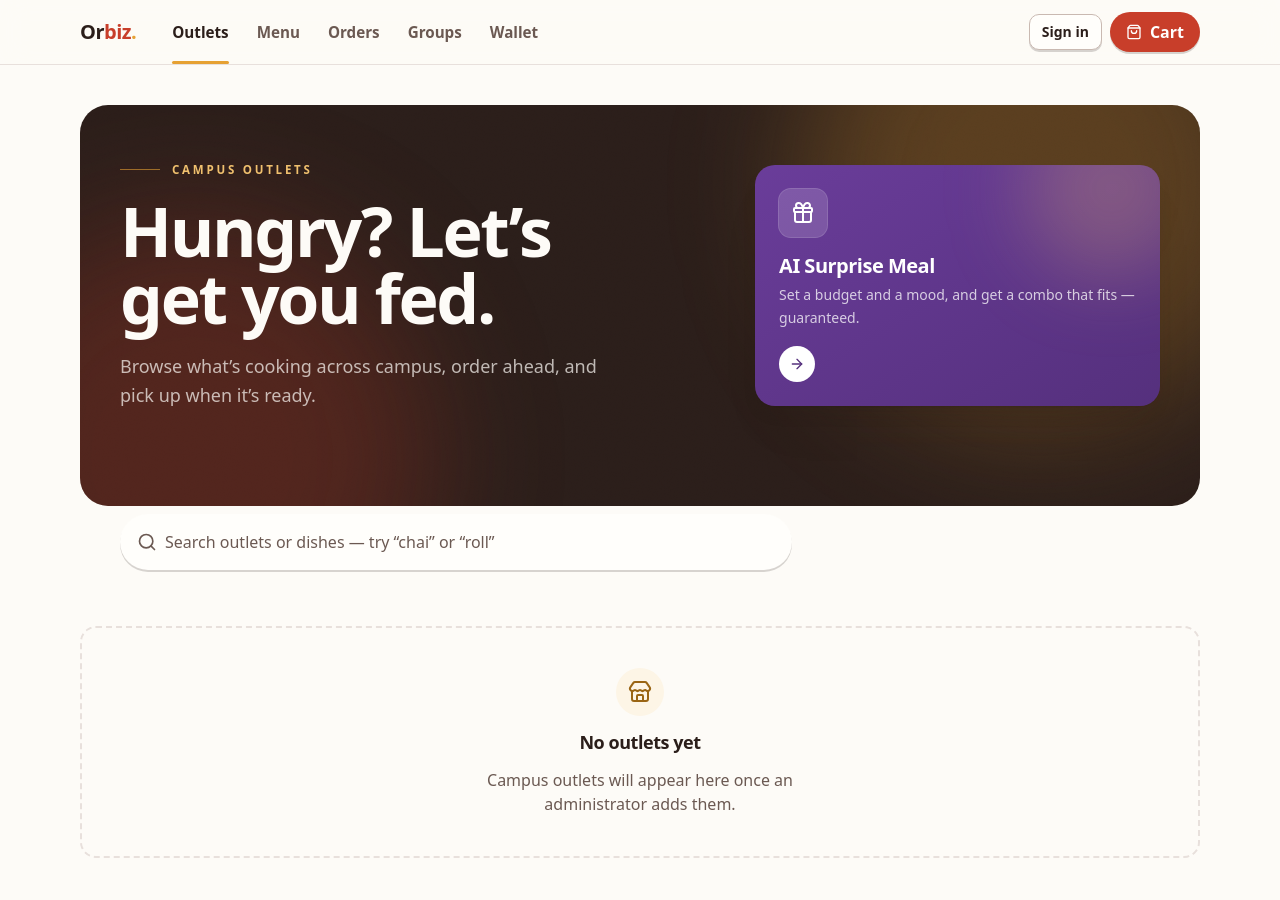
Test case: <HomePage /> › sends the search to the server (debounced) and offers to clear an empty result
This screenshot has width=1280, height=900.
Expected: the heading "No outlets yet" is shown, x1=579 y1=728 x2=701 y2=756
Step 1. Type "dosa" into the search field named "Search outlets and dishes" → (470, 542), box x1=165 y1=515 x2=775 y2=569
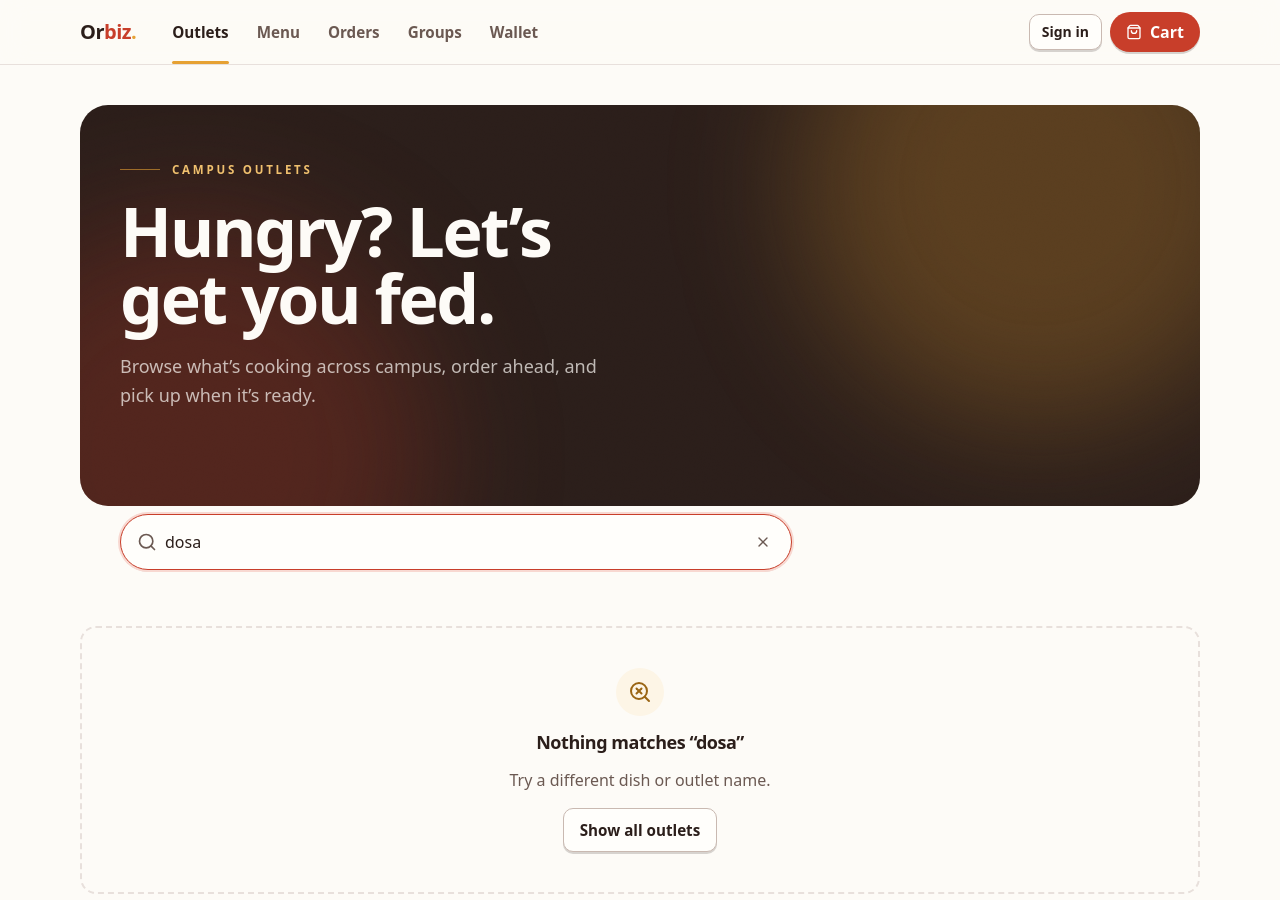
Now the heading "Nothing matches “dosa”" is shown, box x1=536 y1=728 x2=744 y2=756
Step 2. Click the button "Show all outlets" → (640, 830), box x1=563 y1=808 x2=717 y2=852
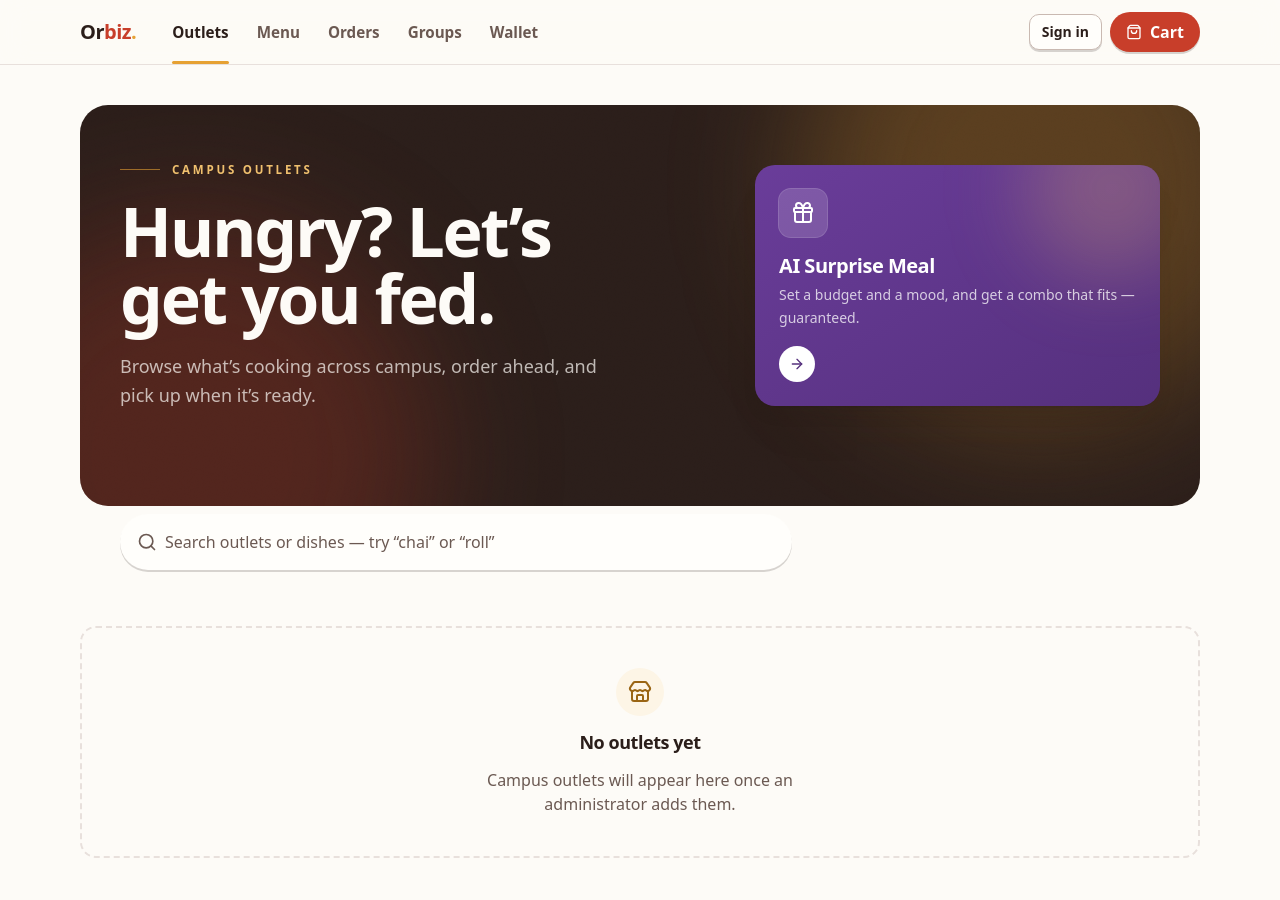
Now the heading "No outlets yet" is shown, box x1=579 y1=728 x2=701 y2=756
